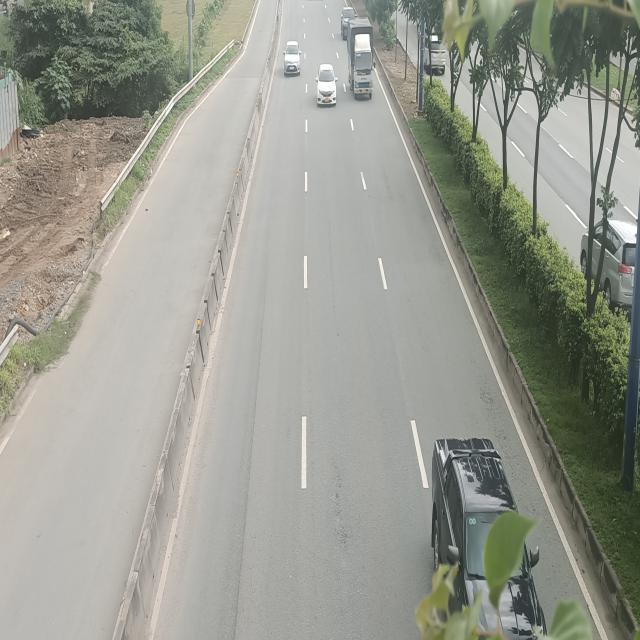car: (315, 64, 338, 106), (284, 42, 302, 76)
truck: (346, 15, 376, 99)
